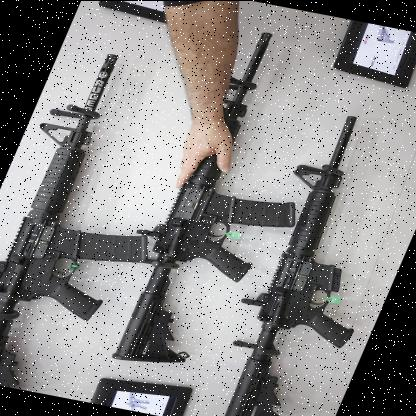rifle: (97, 24, 370, 389), (192, 102, 416, 416), (0, 44, 184, 391)
